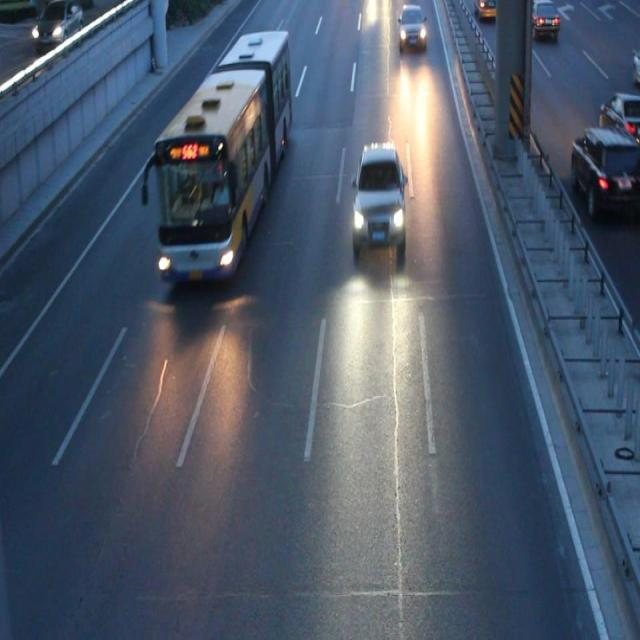car: (569, 127, 640, 212), (354, 146, 404, 245), (598, 88, 640, 156), (520, 1, 558, 36), (399, 1, 424, 45), (471, 1, 503, 20), (632, 47, 639, 86)
van: (160, 29, 290, 273)
